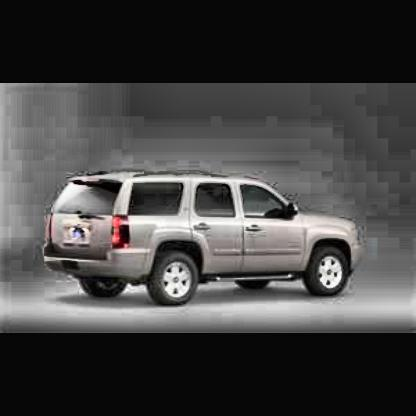Chevrolet Tahoe Hybrid SUV 2012: (44, 171, 367, 311)
